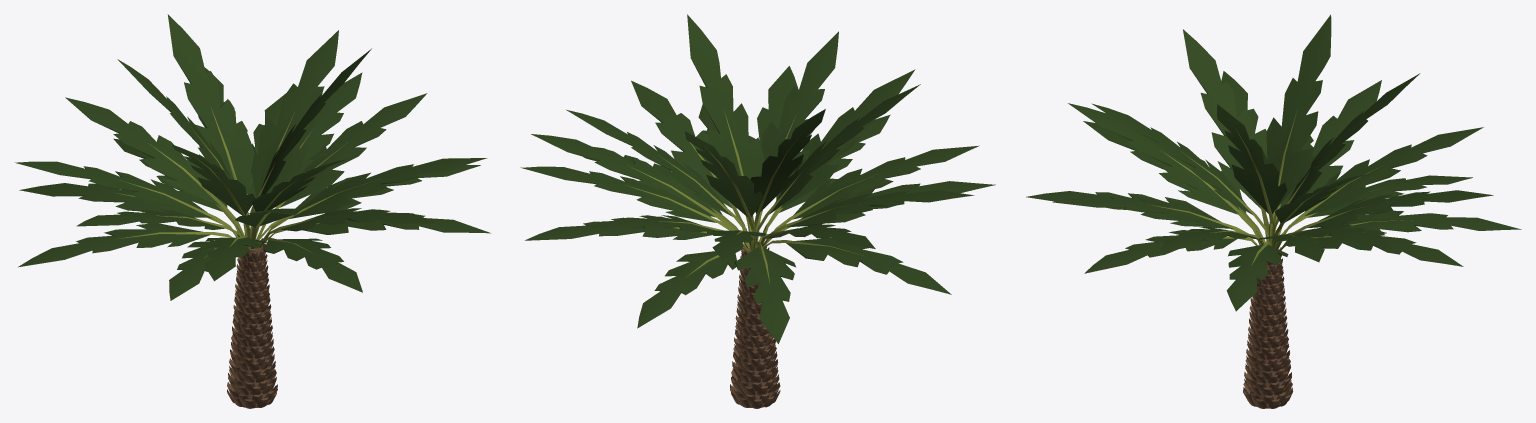
Rendered from Pohon_Sawit_LowMesh.gltf.
3 renders of one model, left to right at view 1: azimuth 30°, elevation 25°; view 2: azimuth 150°, elevation 25°; view 3: azimuth 270°, elevation 25°, orthographic.
Visible parts, largest first — view 1: Batang; view 2: Batang; view 3: Batang.
Part boxes in pixels (x1,y1,x2,y2): Batang: (15,14,490,408); Batang: (520,14,995,408); Batang: (1026,14,1521,408).
Size of the model in its own units: 12.69 by 9.85 by 12.93.
